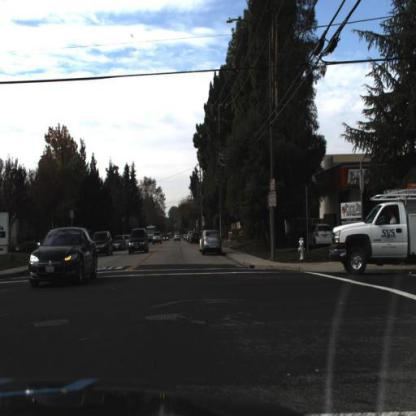car: (325, 184, 416, 285), (23, 222, 102, 299), (28, 225, 100, 291), (126, 226, 152, 259), (198, 225, 225, 256), (96, 227, 117, 262), (94, 230, 115, 258), (113, 233, 130, 254), (170, 227, 185, 244), (152, 230, 166, 248)
truck: (330, 186, 416, 274)
